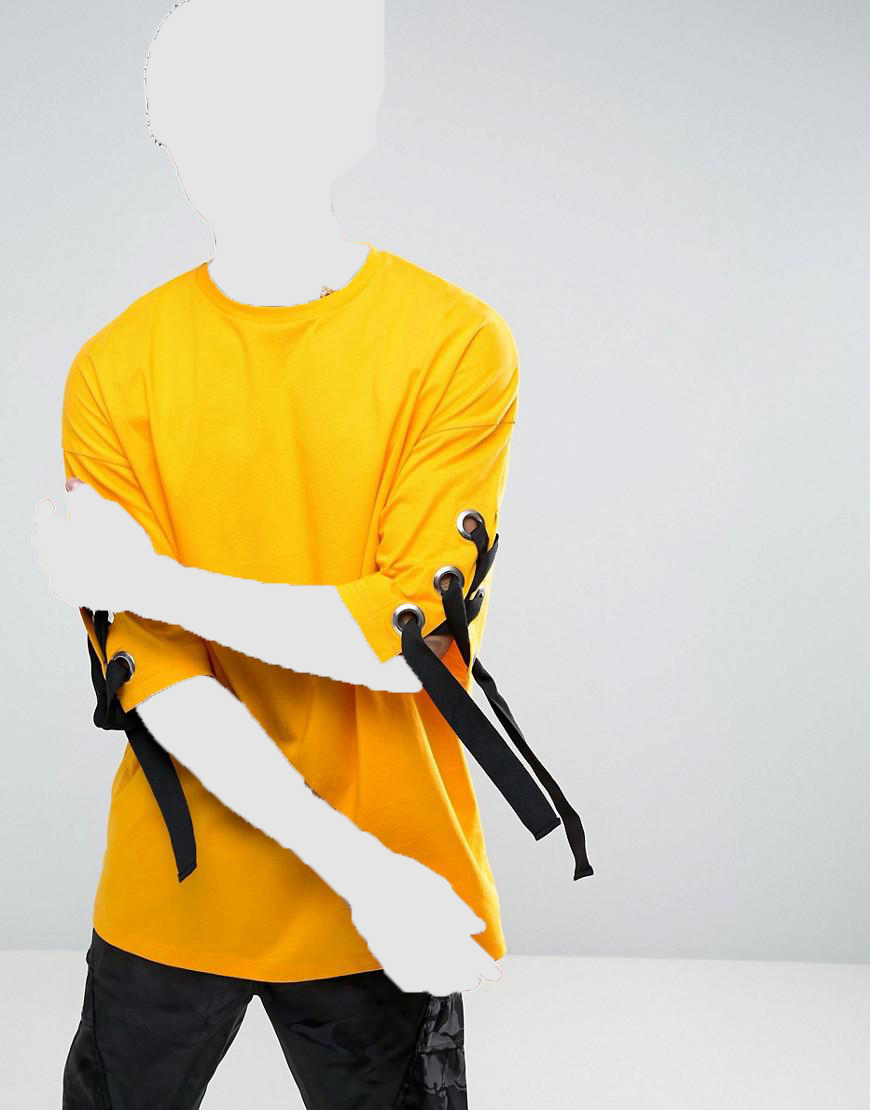teeshirt: (59, 244, 532, 988)
